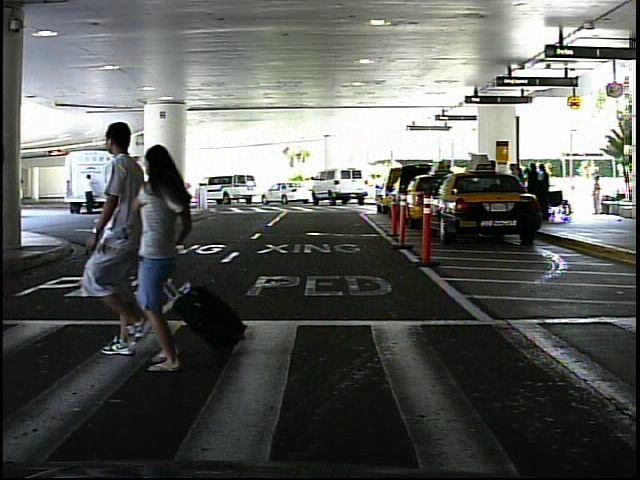person: (135, 132, 211, 378), (87, 117, 155, 364), (81, 170, 99, 220), (589, 172, 607, 218)
